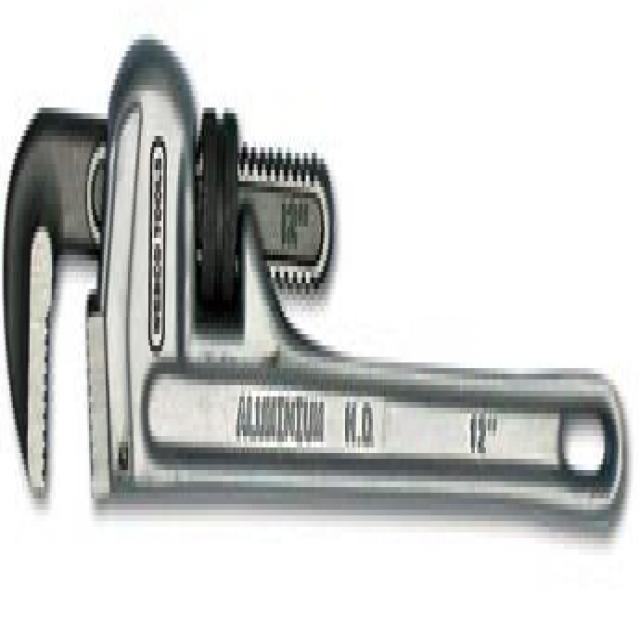wrench: (0, 29, 629, 566)
